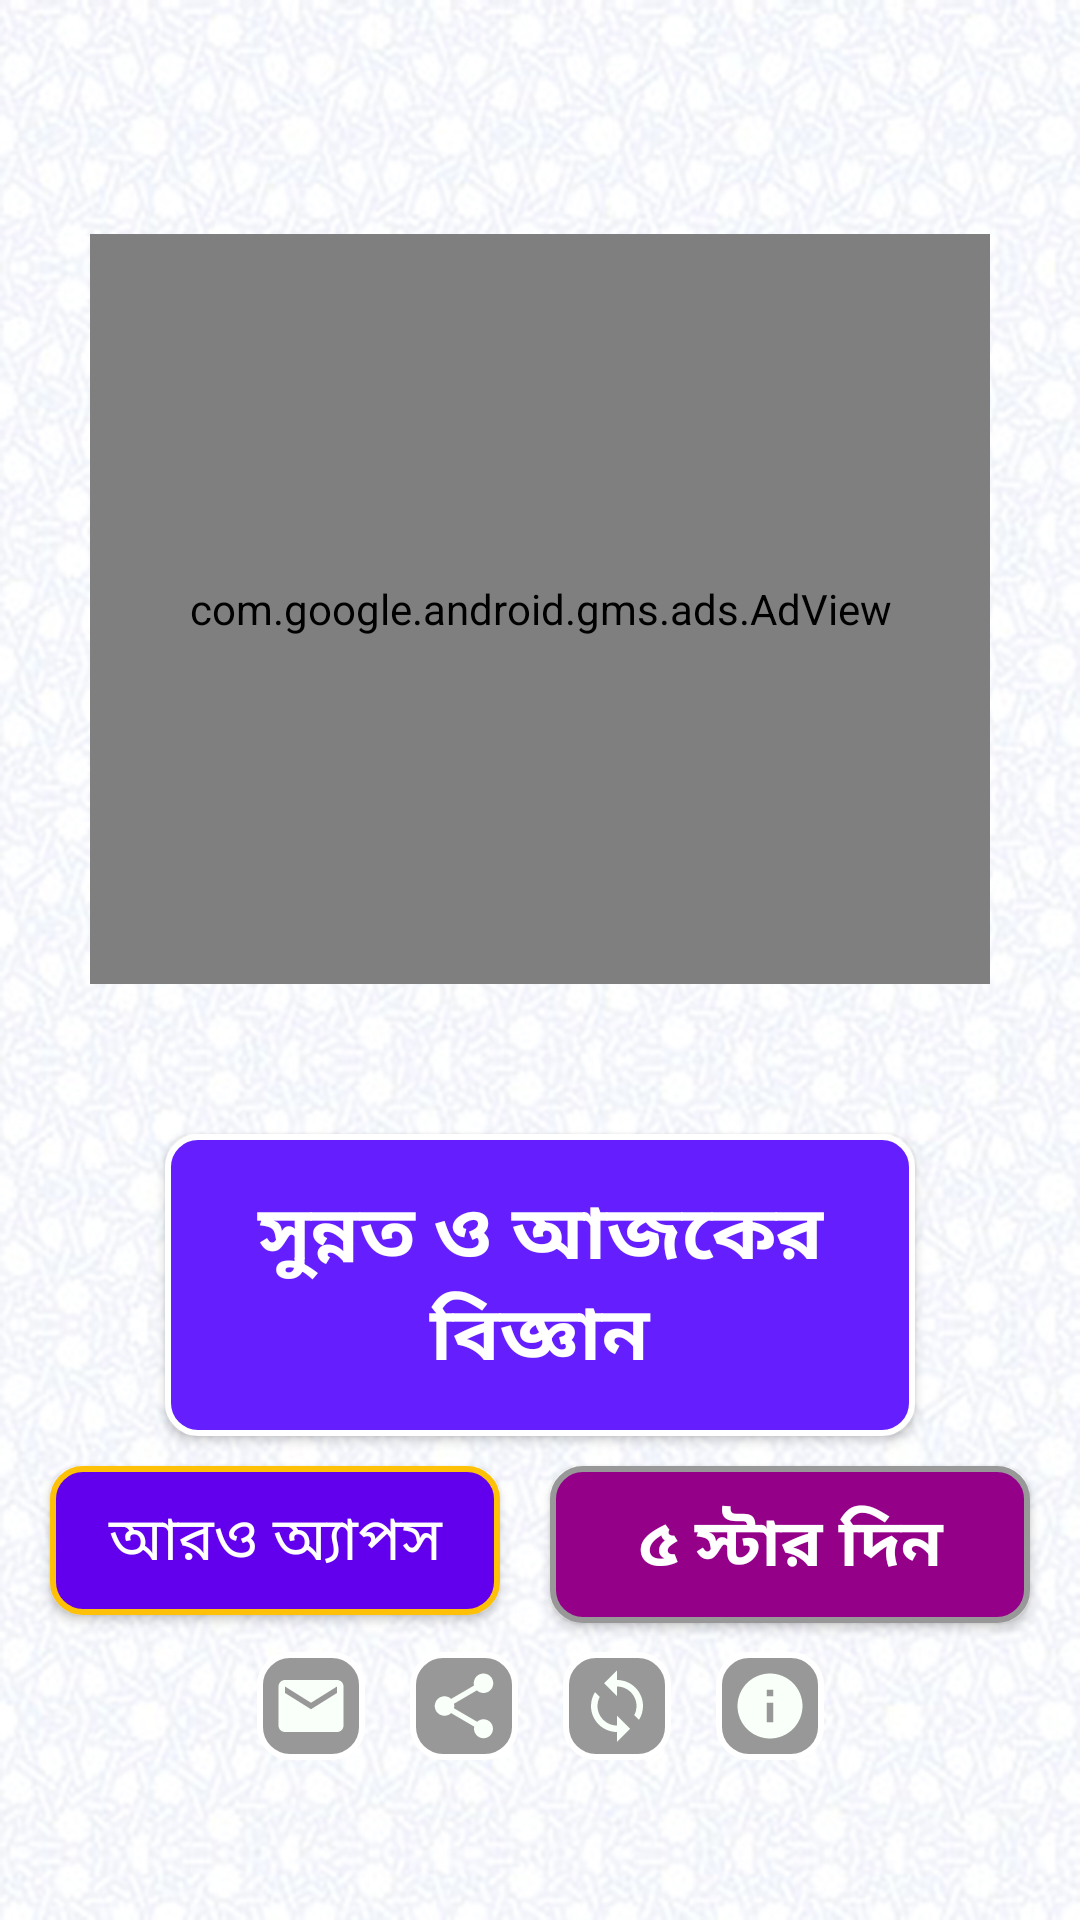

Where to tap for icons on this 1080*1920 app screen, as [x,y]:
info: [770,1706]
mail: [311,1706]
share: [464,1706]
sync: [617,1706]
